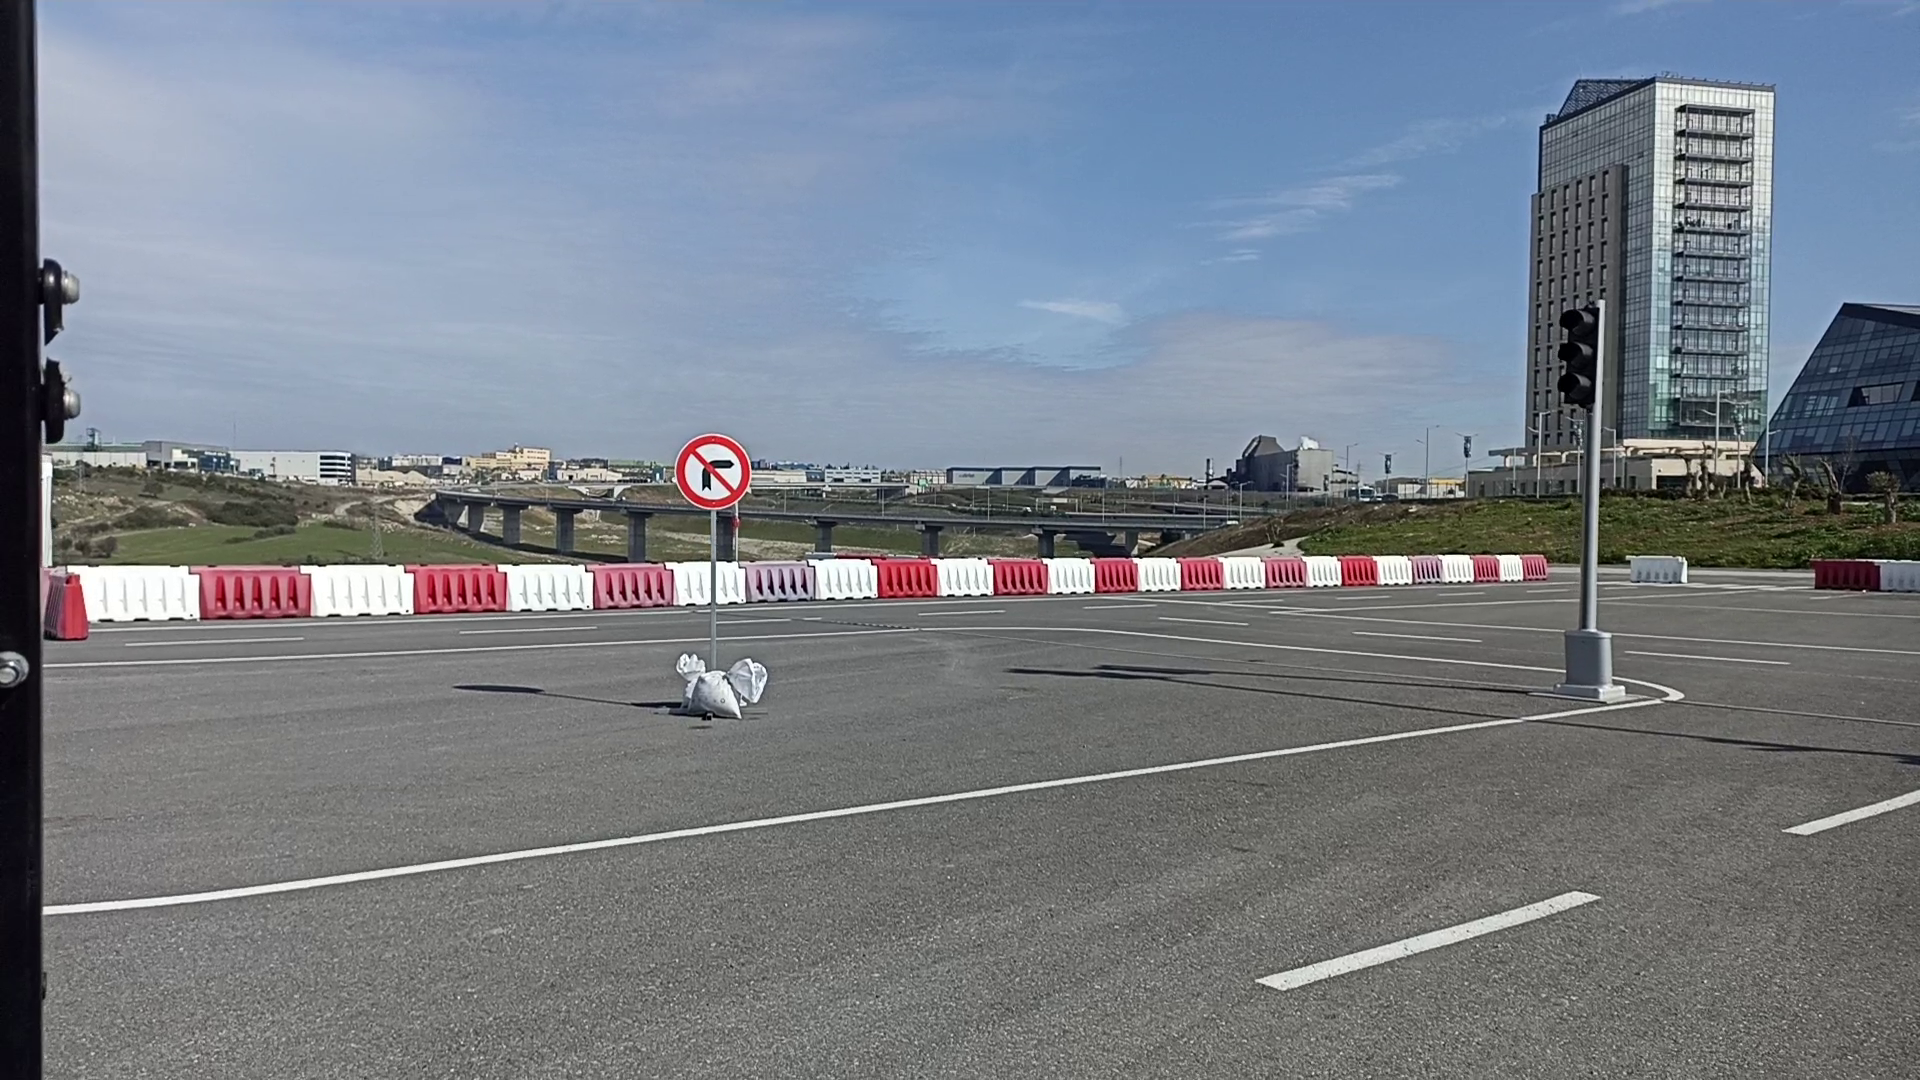noleftturn: (673, 433, 753, 512)
trafficlight: (1553, 298, 1607, 407)
